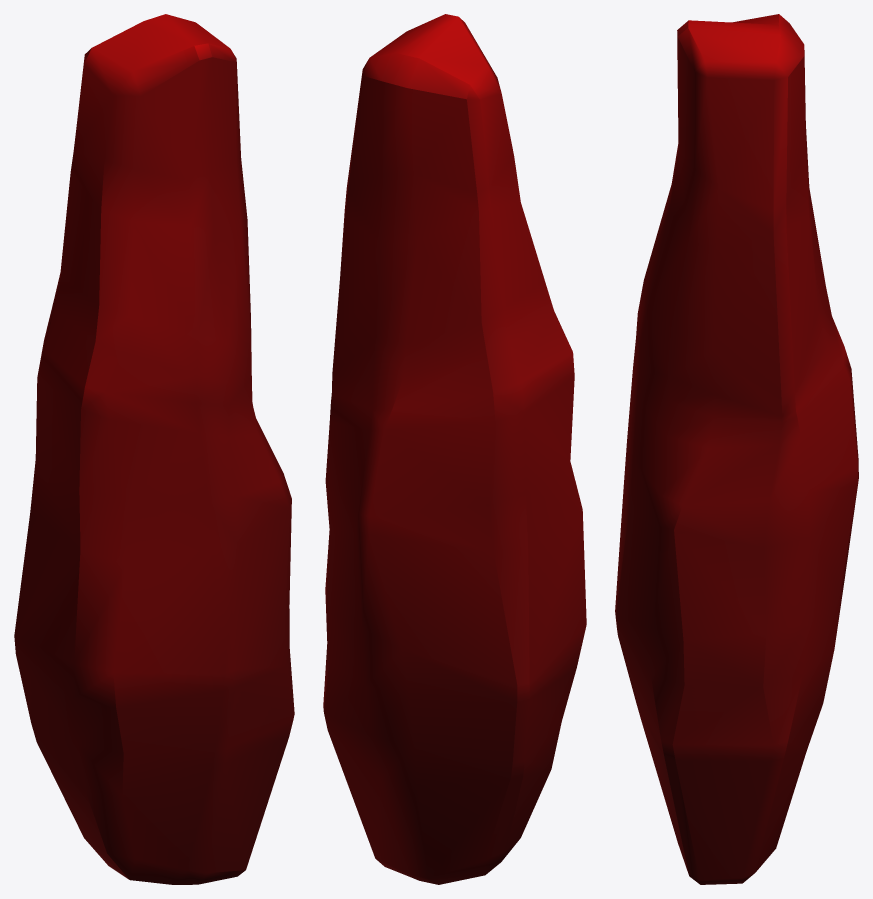
File: geology-carvedstone-monolith_v5.fbx
3 renders of one model, left to right at view 1: azimuth 30°, elevation 25°; view 2: azimuth 150°, elevation 25°; view 3: azimuth 270°, elevation 25°, orthographic.
Parts seen in each view (by area): view 1: Monolith_v5; view 2: Monolith_v5; view 3: Monolith_v5.
Part boxes in pixels (left/top/right/bottom): Monolith_v5: left=14, top=14, right=294, bottom=884; Monolith_v5: left=323, top=14, right=586, bottom=884; Monolith_v5: left=615, top=14, right=858, bottom=884.
Bounding box in the file's own units: 2.2 × 8.08 × 2.12.
